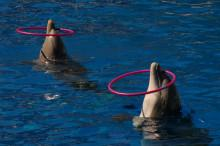fish: (112, 60, 209, 141), (32, 18, 101, 91)
